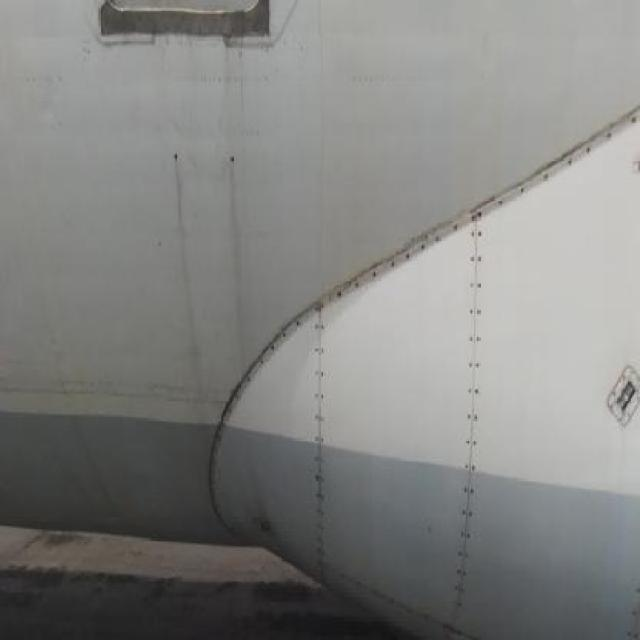Missing-Rivet: (484, 97, 640, 242), (452, 192, 481, 626), (340, 206, 454, 312), (303, 290, 342, 587), (215, 298, 297, 417)
